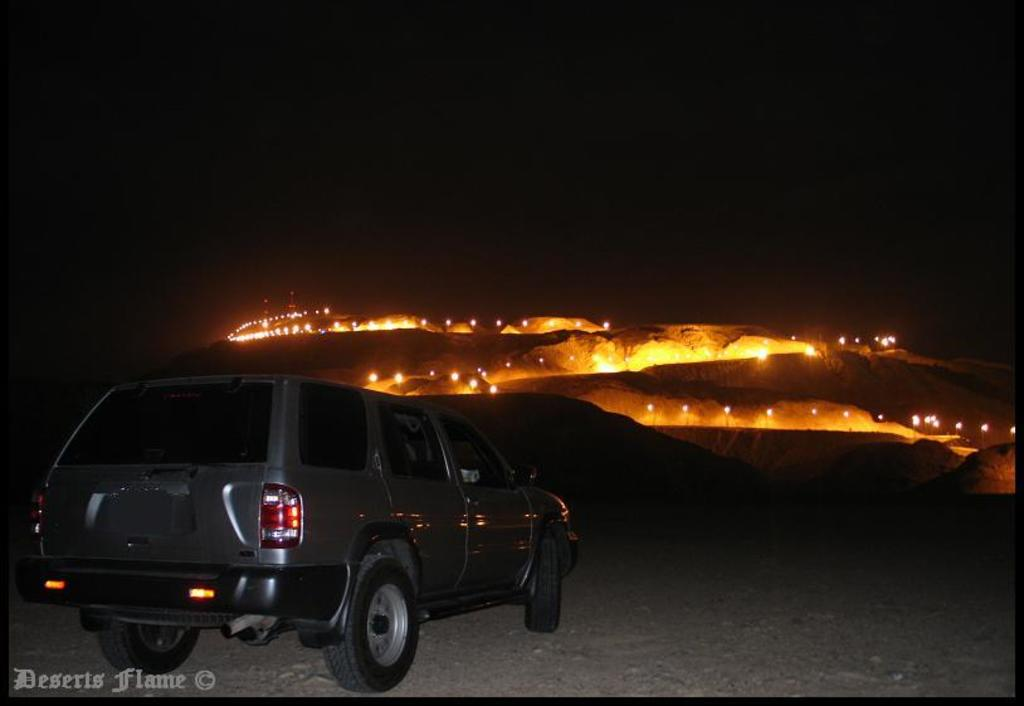car: (15, 342, 636, 697)
